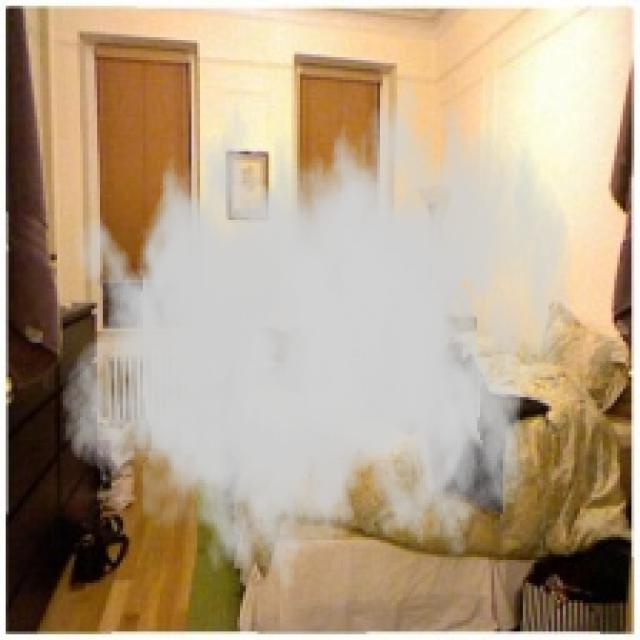smoke: (60, 46, 574, 600)
